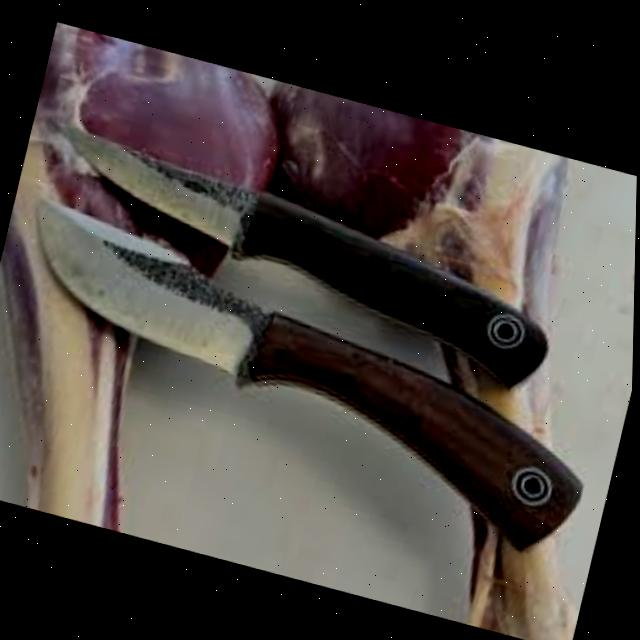Knife: (0, 186, 637, 552), (21, 113, 574, 389)
